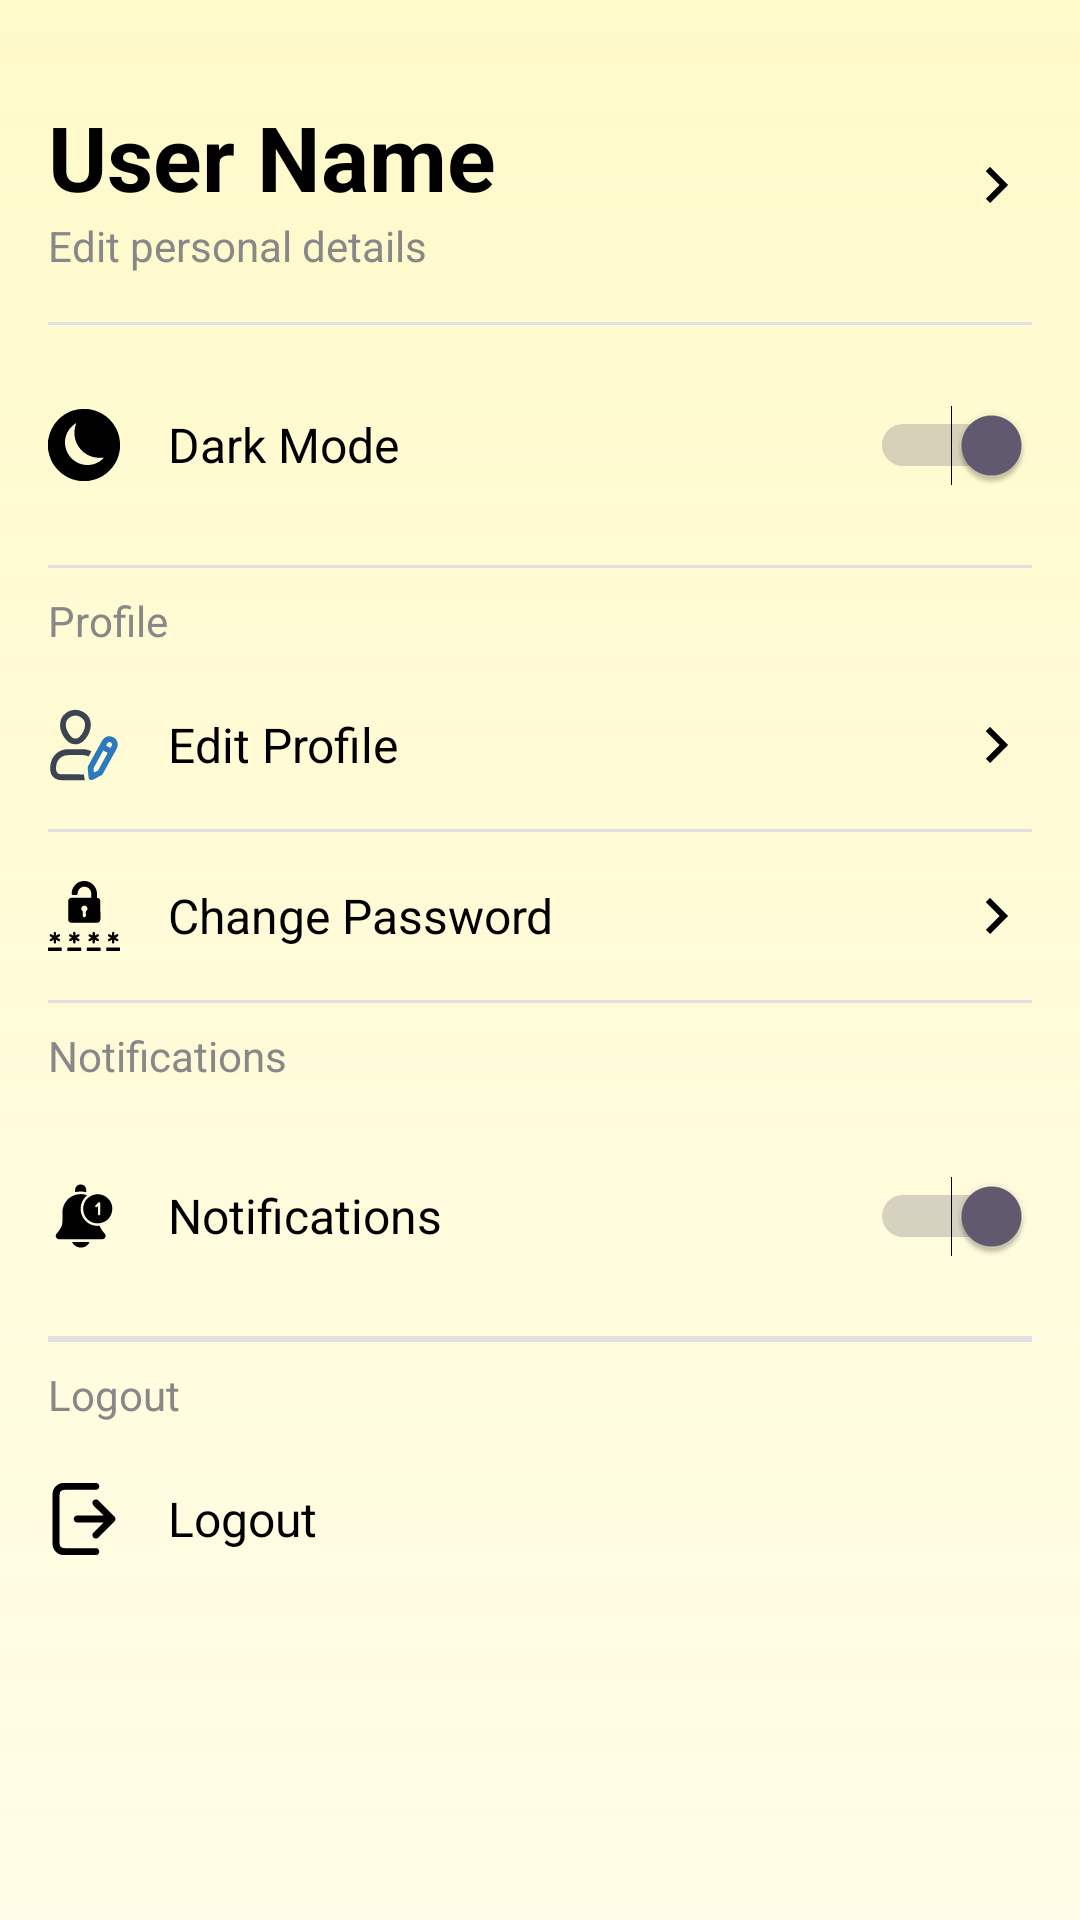

Named icons in this screenshot (1080px x 1920px) and their centers, [x,y]:
Arrow: [997,185], [997,745], [997,916]
